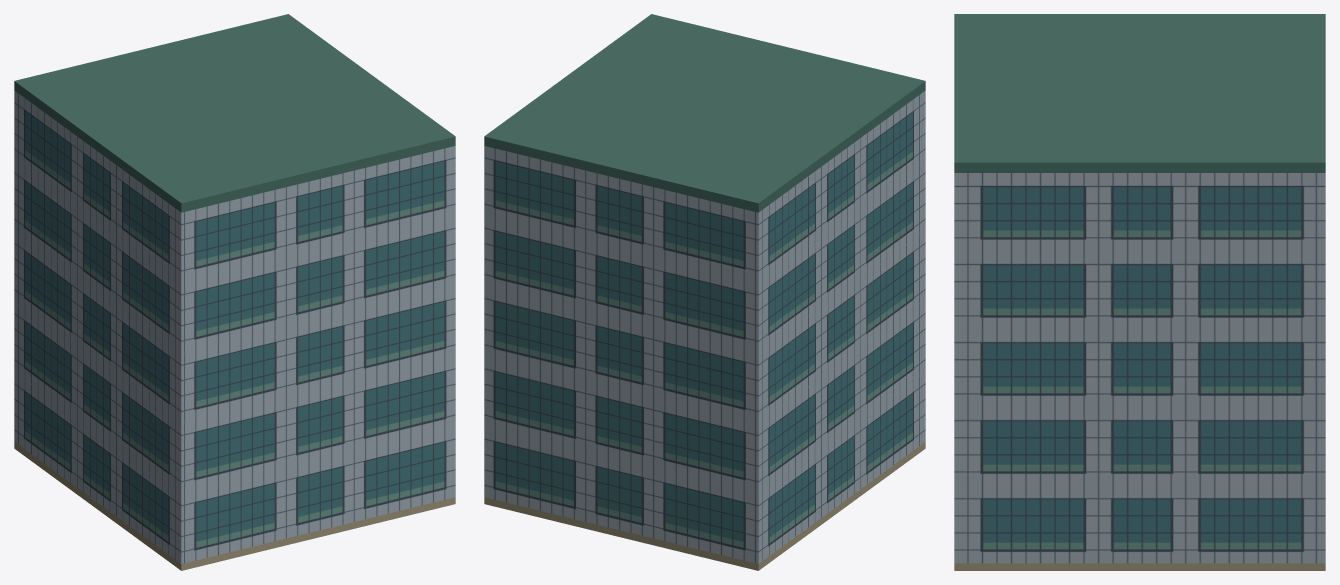
The model's file is Blue Building.fbx.
The picture shows the model from 3 angles, left to right: view 1: azimuth 30°, elevation 25°; view 2: azimuth 150°, elevation 25°; view 3: azimuth 270°, elevation 25°; orthographic projection. The views are drawn at different scales.
Visible parts, largest first — view 1: Cube; view 2: Cube; view 3: Cube.
Part boxes in pixels (box(x1,y1,x2,y2)): Cube: box(14, 14, 455, 570); Cube: box(484, 14, 925, 570); Cube: box(954, 14, 1325, 570).
Bounding box in the file's own units: 1352 × 1731 × 1428.
1 material, 1 textured.
